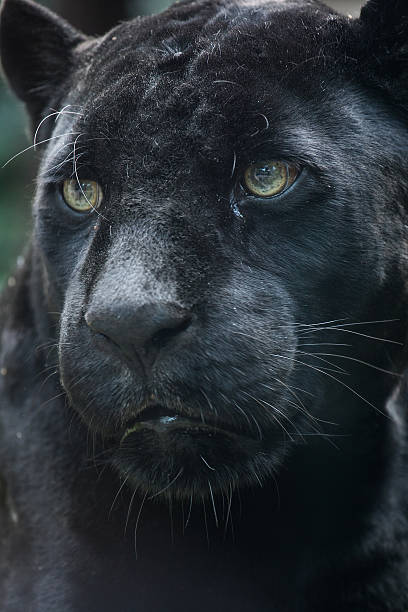panther: (3, 1, 408, 535)
